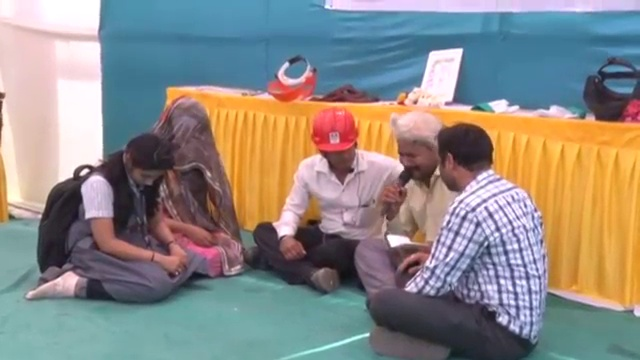helmet: (301, 105, 363, 156)
helmet_off: (435, 121, 497, 198), (109, 130, 177, 197), (155, 97, 214, 163), (390, 112, 442, 185)
helmet_on: (303, 101, 365, 171)
person: (363, 120, 550, 357), (25, 129, 195, 304), (243, 110, 400, 291), (139, 89, 249, 277), (359, 112, 465, 301)
